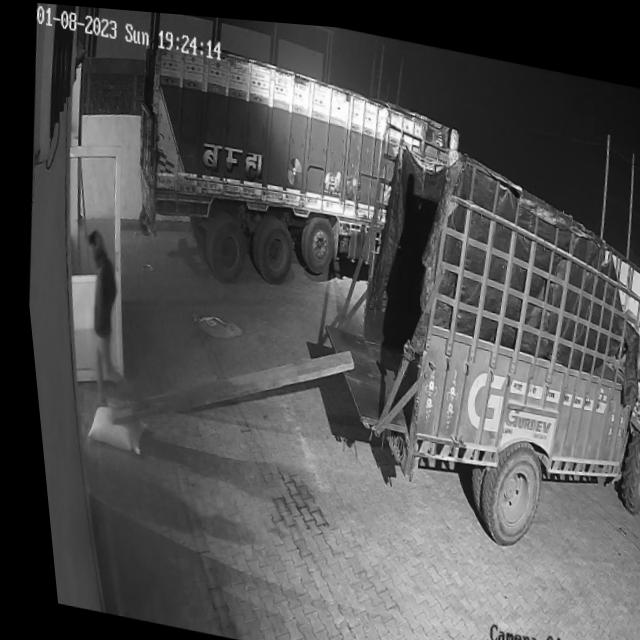sack: (75, 401, 139, 453)
